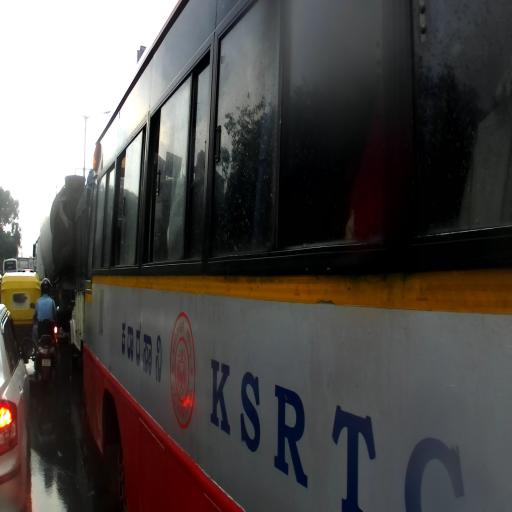street_light_0: (85, 111, 111, 123)
